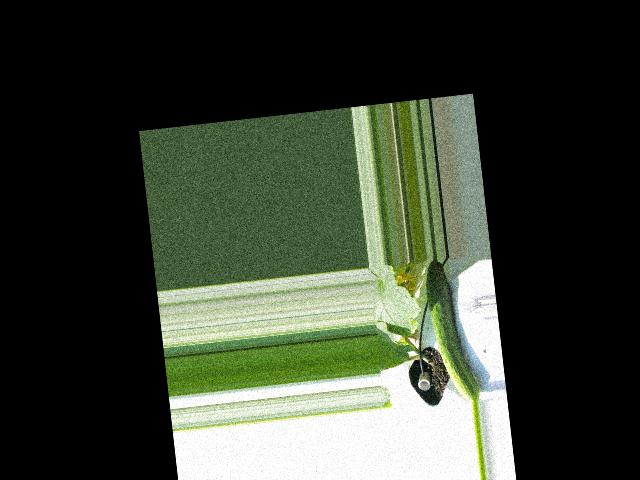cucumber: (423, 256, 481, 408)
